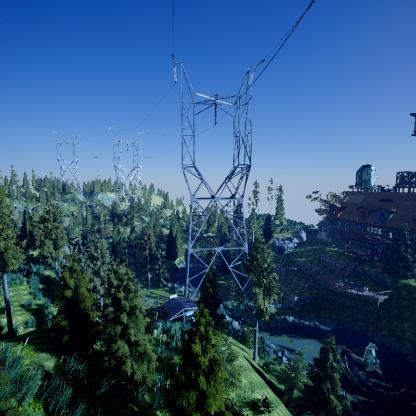tower: (170, 52, 269, 317), (107, 126, 147, 212), (51, 130, 84, 196)
